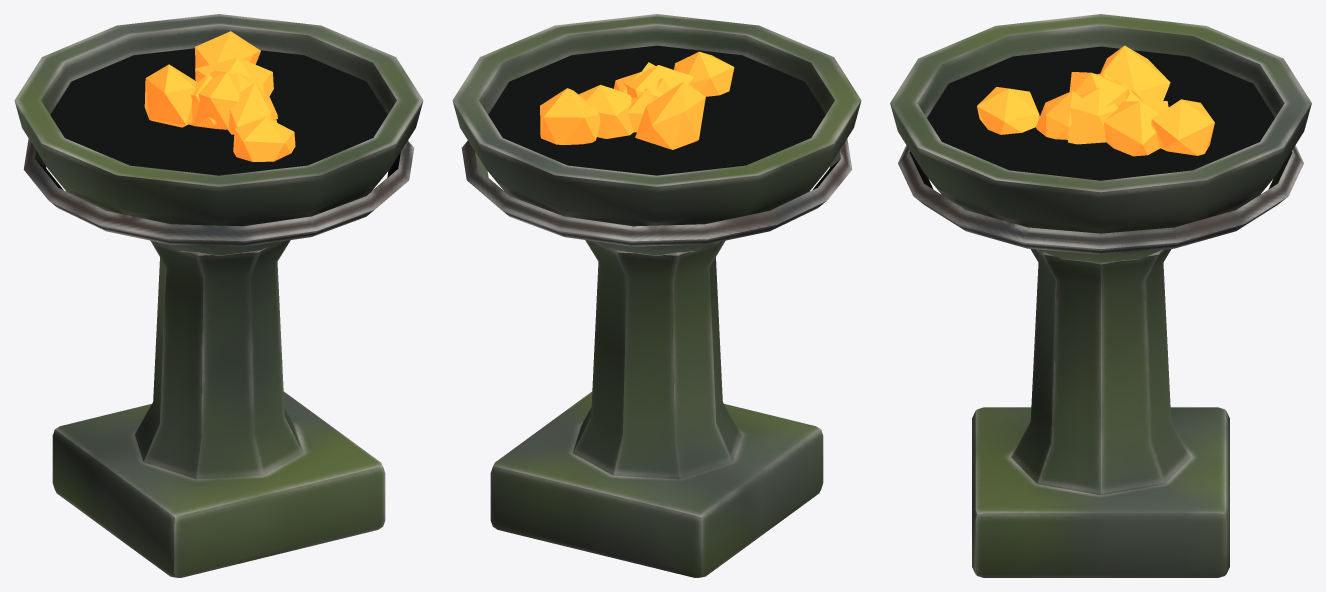
File: crypt_brazier.glb
3 renders of one model, left to right at view 1: azimuth 30°, elevation 25°; view 2: azimuth 150°, elevation 25°; view 3: azimuth 270°, elevation 25°, orthographic. The views are drawn at different scales.
Parts seen in each view (by area): view 1: crypt_brazier, crypt_brazier_glow; view 2: crypt_brazier, crypt_brazier_glow; view 3: crypt_brazier, crypt_brazier_glow.
Part boxes in pixels (left/top/right/bottom): crypt_brazier: left=14, top=14, right=423, bottom=577; crypt_brazier_glow: left=144, top=31, right=295, bottom=161; crypt_brazier: left=452, top=14, right=861, bottom=577; crypt_brazier_glow: left=540, top=51, right=734, bottom=149; crypt_brazier: left=890, top=14, right=1311, bottom=577; crypt_brazier_glow: left=977, top=45, right=1214, bottom=156.
Size of the model in its own units: 1.08 by 1.31 by 1.08.
2 materials, 1 textured.
